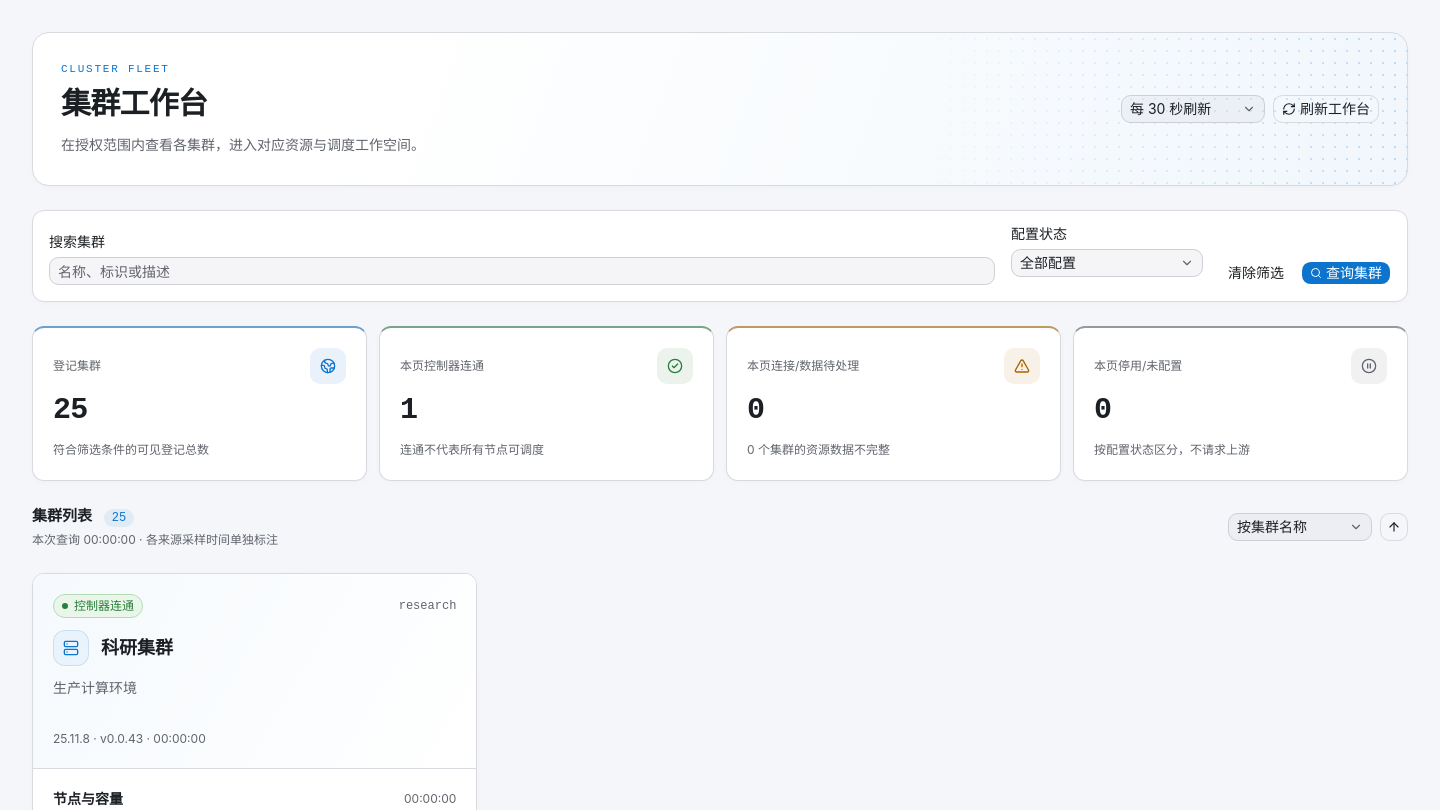
Scenario: 迟到的旧筛选响应不覆盖当前工作台
Click the button "刷新工作台": x=1326, y=109 [1273, 95, 1379, 123]
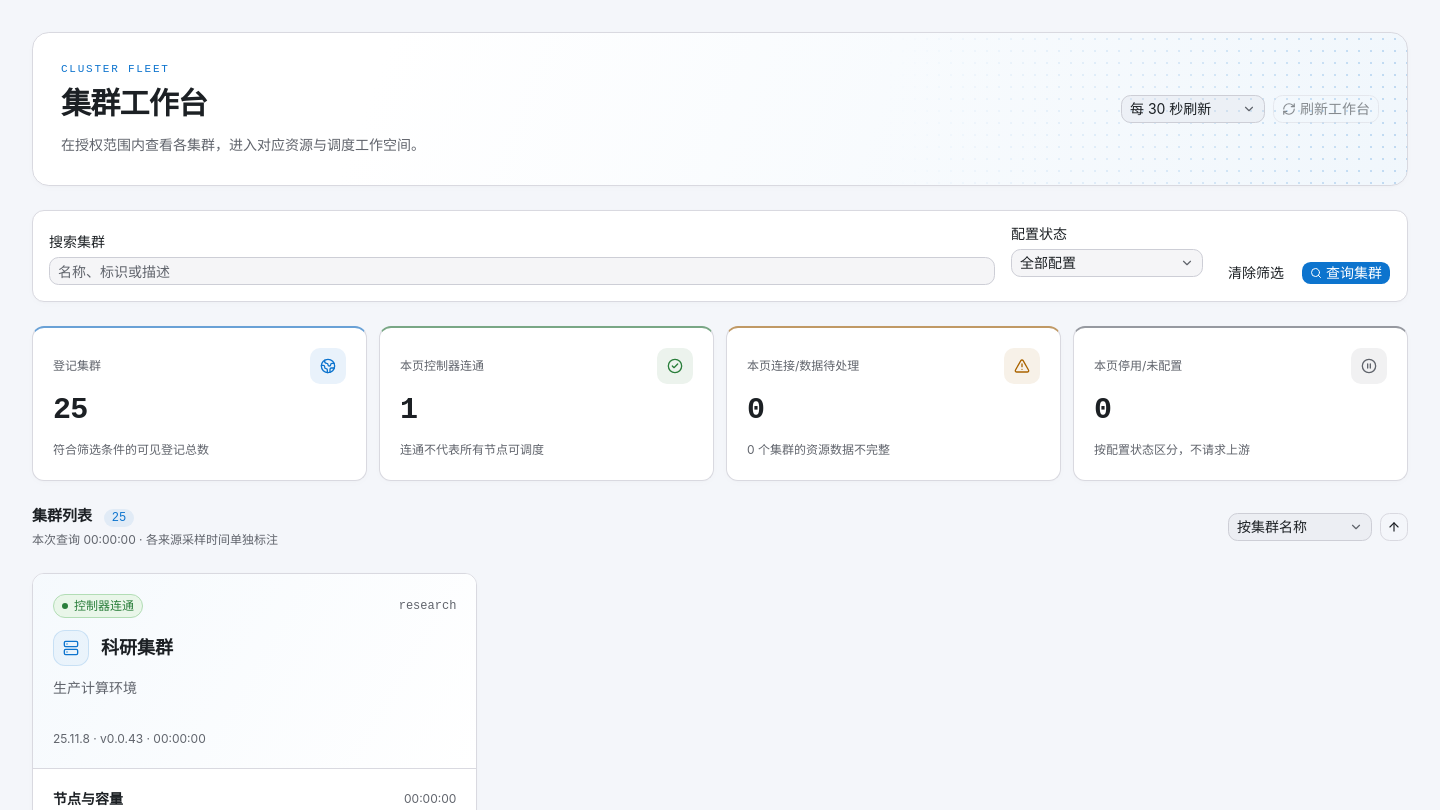
In the field labelled "搜索集群": x=522, y=271 [49, 257, 995, 285], type "beta"
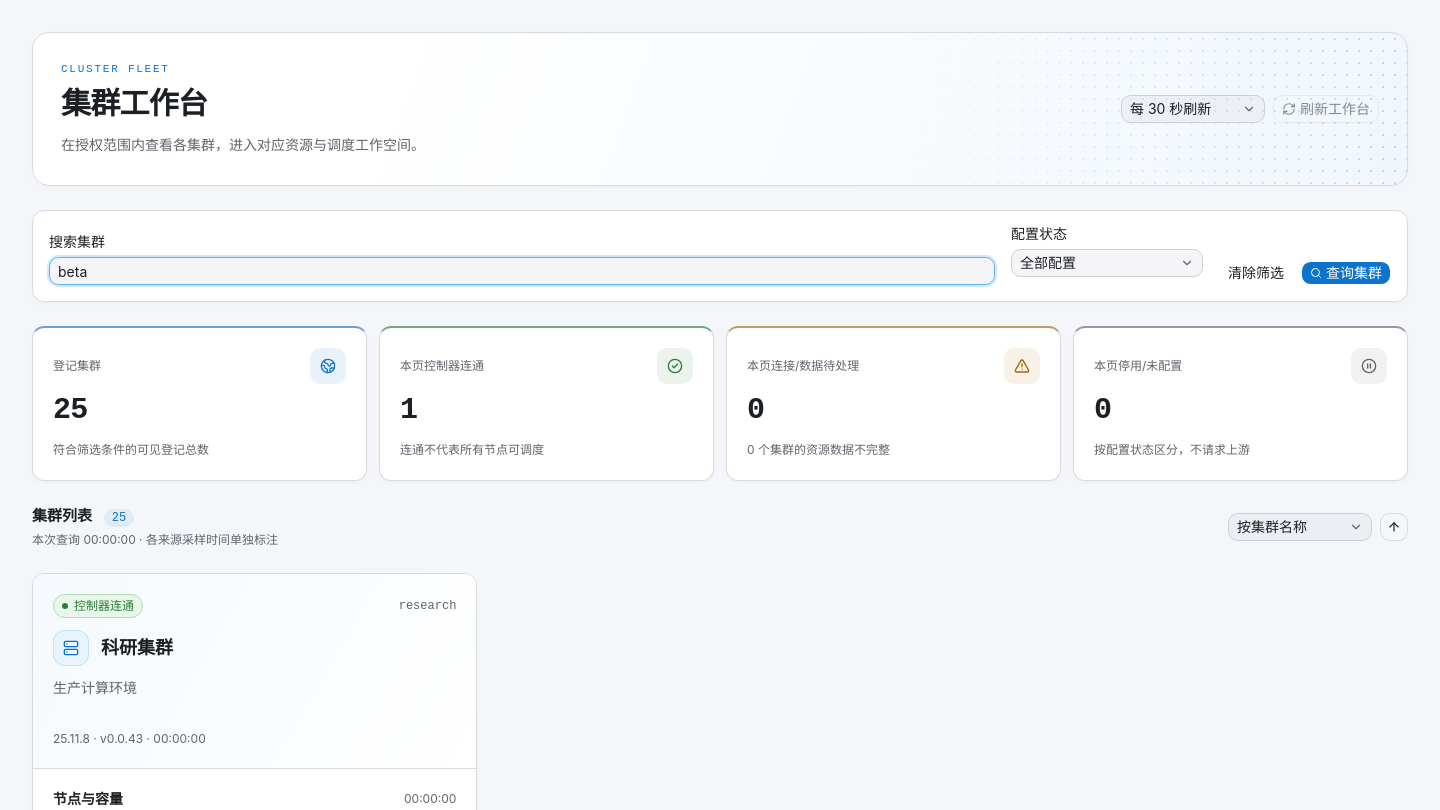
Click the button "查询集群": x=1346, y=273 [1301, 261, 1391, 285]
(page scrolled)
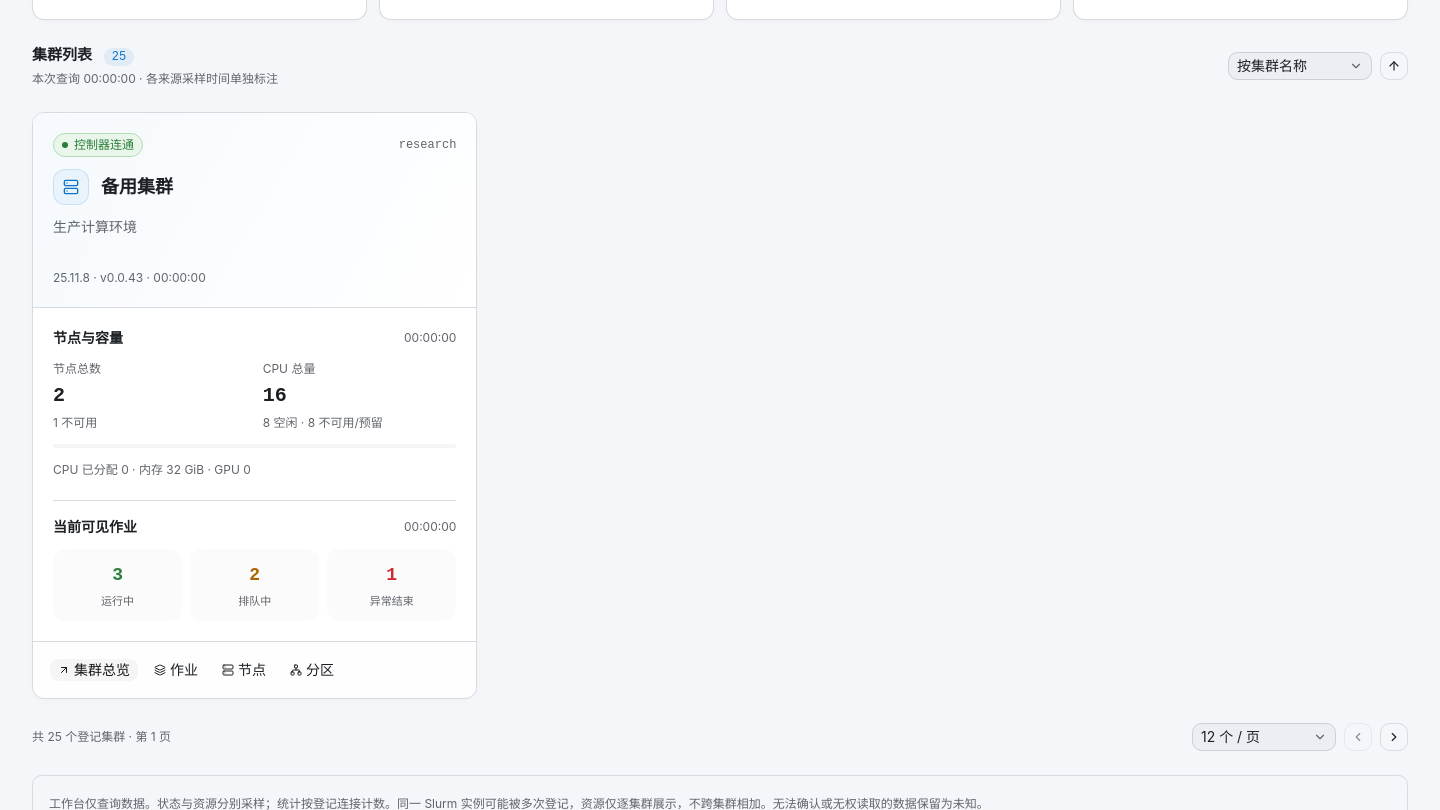
Result: the element named "集群 备用集群" is shown at [32, 112, 477, 699]
